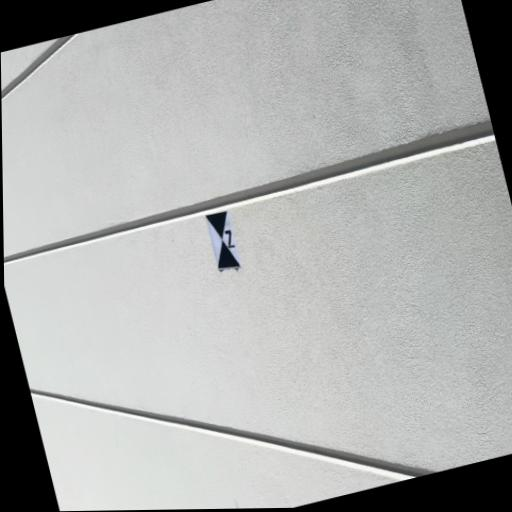target7: (205, 211, 242, 269)
